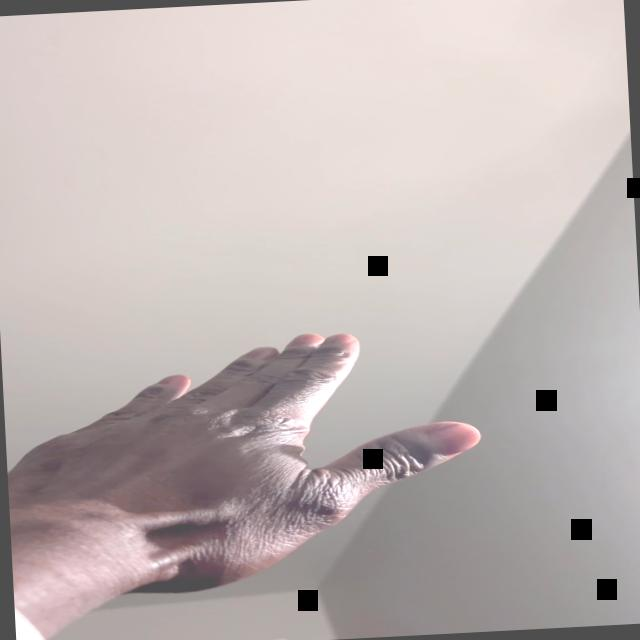Paper: (1, 320, 492, 605)
